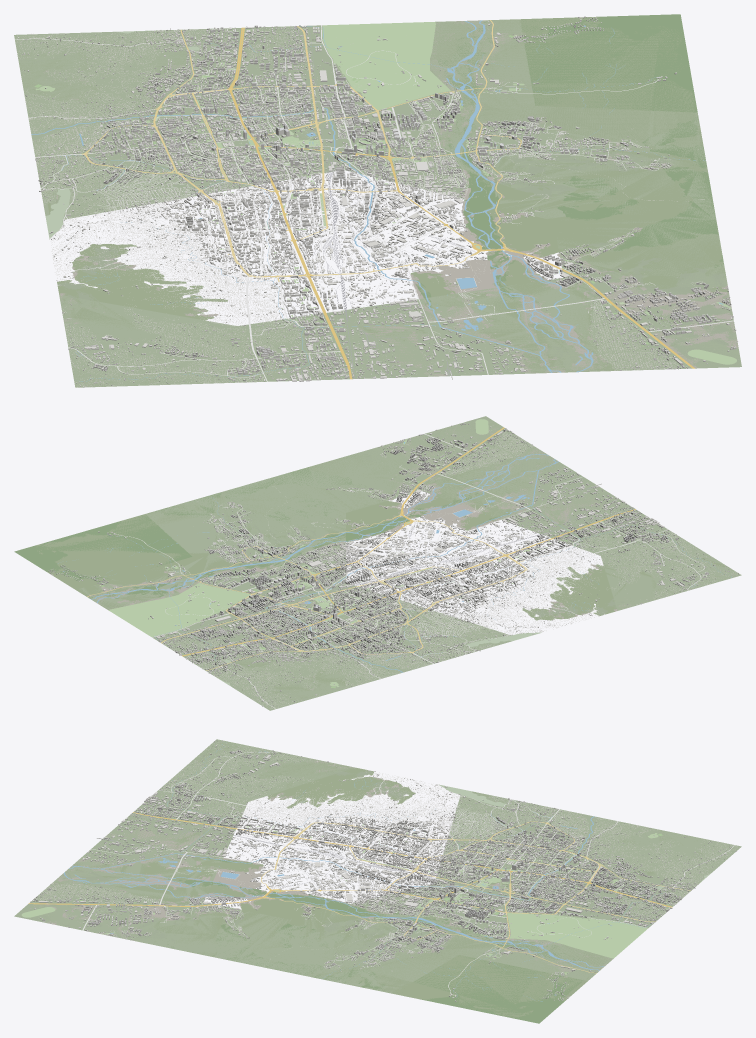
Rendered from city.glb.
3 renders of one model, top to bottom at view 1: azimuth 30°, elevation 25°; view 2: azimuth 150°, elevation 25°; view 3: azimuth 270°, elevation 25°, orthographic. The views are drawn at different scales.
Parts seen in each view (by area): view 1: Cover, Buildings, BuildingsFlat, RoadsMinor, Green, RoadsMajor, Water, RoadsPath, Rail; view 2: Cover, Buildings, RoadsMinor, BuildingsFlat, Green, RoadsMajor, Water, RoadsPath, Rail; view 3: Cover, Buildings, RoadsMinor, BuildingsFlat, Green, RoadsMajor, Water, RoadsPath, Rail.
Part boxes in pixels (box(x1,y1,x2,y2)): Cover: box(14, 14, 741, 387); Buildings: box(18, 16, 737, 387); BuildingsFlat: box(17, 24, 735, 387); RoadsMinor: box(15, 25, 733, 381); Green: box(34, 22, 736, 370); RoadsMajor: box(82, 20, 694, 379); Water: box(31, 20, 723, 381); RoadsPath: box(205, 121, 704, 362); Rail: box(288, 30, 474, 380); Cover: box(14, 416, 741, 710); Buildings: box(48, 422, 738, 708); RoadsMinor: box(114, 434, 704, 708); BuildingsFlat: box(73, 430, 736, 708); Green: box(99, 419, 666, 688); RoadsMajor: box(87, 427, 635, 670); Water: box(58, 442, 731, 672); RoadsPath: box(256, 488, 466, 610); Rail: box(328, 486, 645, 592); Cover: box(14, 739, 741, 1023); Buildings: box(30, 740, 736, 1001); RoadsMinor: box(82, 751, 735, 995); BuildingsFlat: box(36, 741, 737, 995); Green: box(21, 775, 711, 974); RoadsMajor: box(28, 812, 690, 973); Water: box(64, 744, 662, 1001); RoadsPath: box(46, 839, 490, 959); Rail: box(104, 800, 465, 888).
Size of the model in its own units: 14310 by 135 by 15473.
